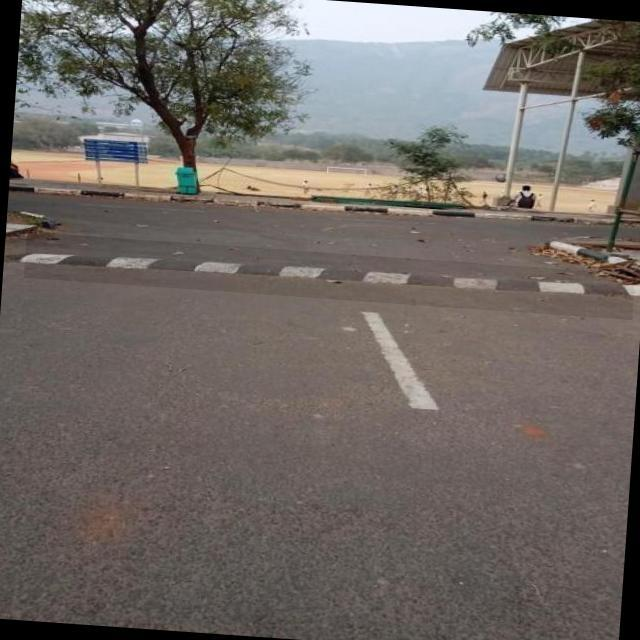speedbreaker: (24, 231, 636, 320)
